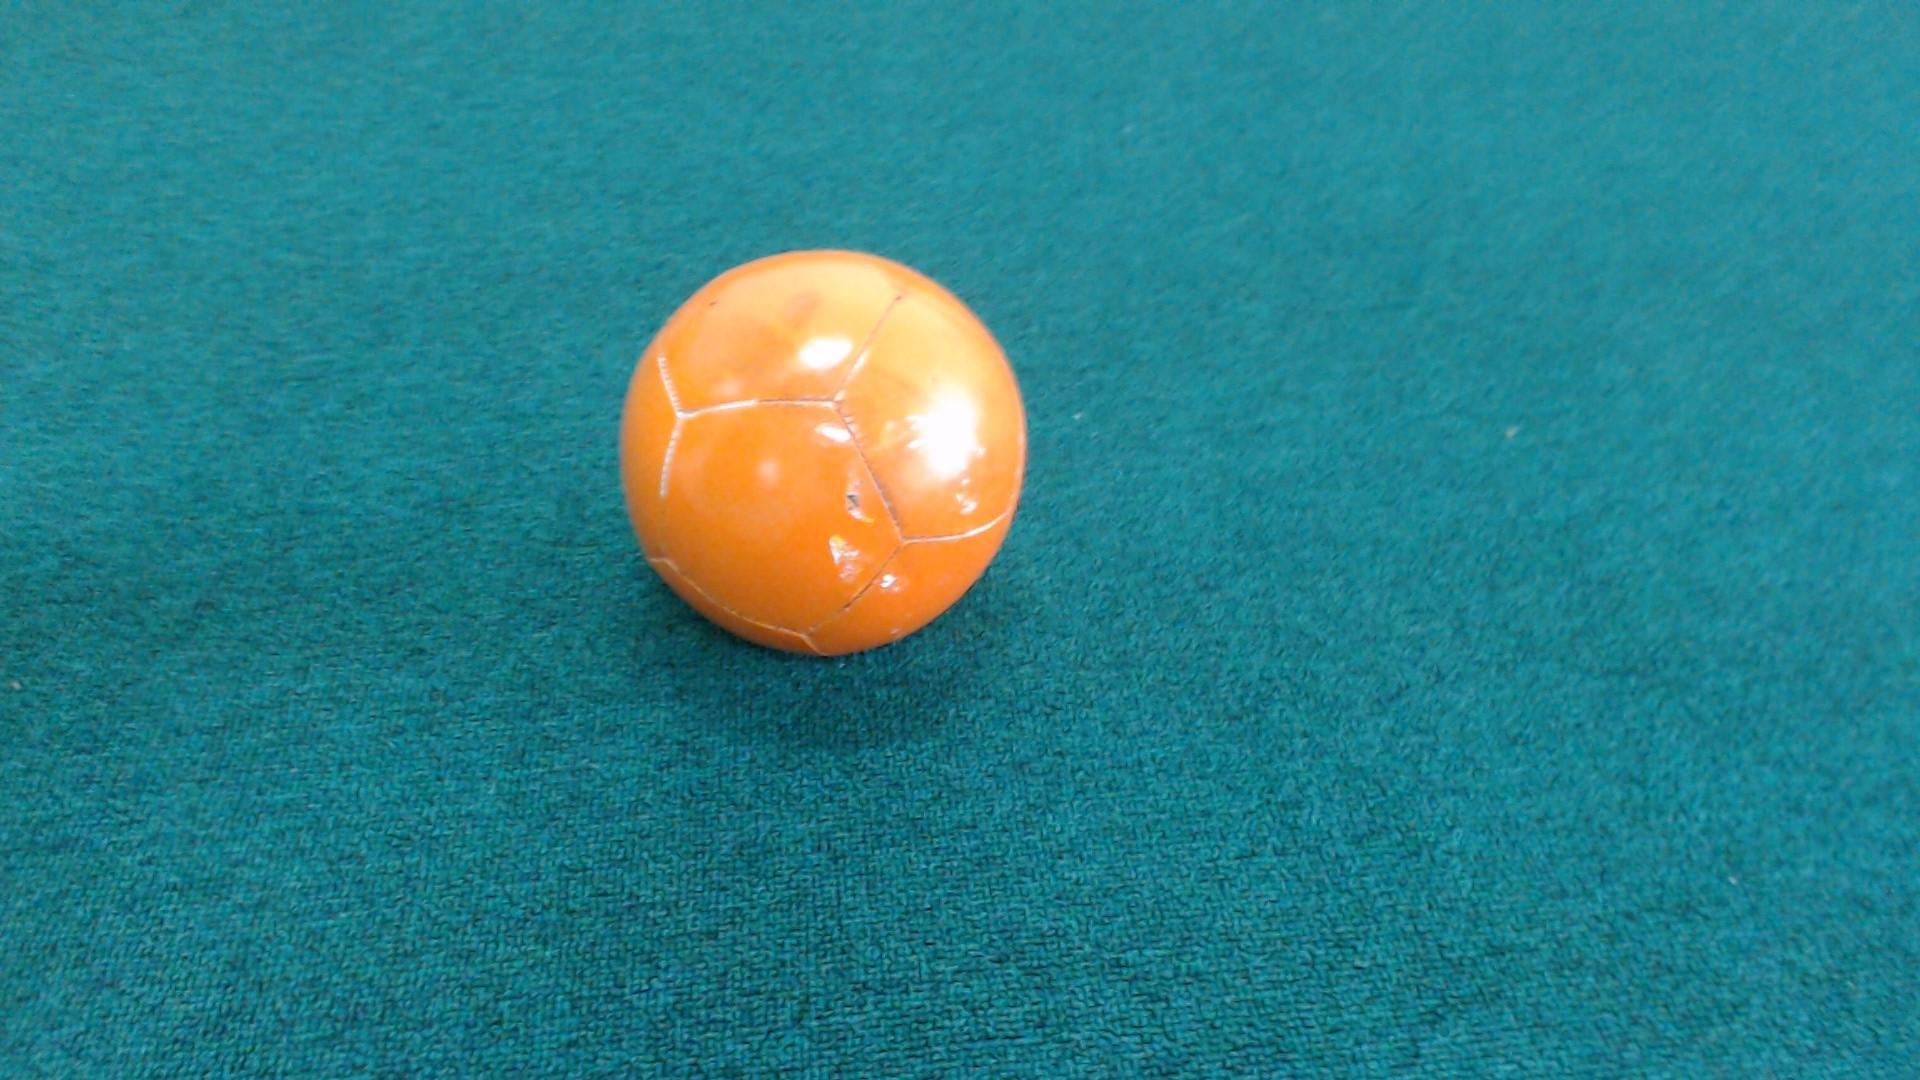bola: (588, 235, 1044, 682)
